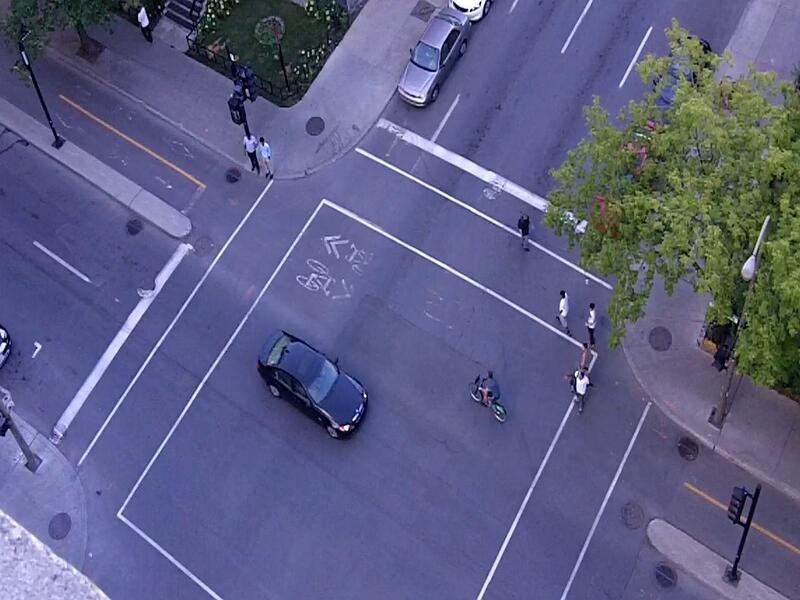car: (255, 328, 369, 442)
